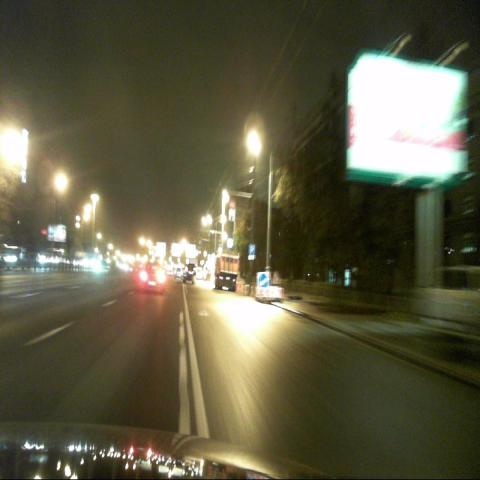4_2_2: (258, 271, 270, 292)
